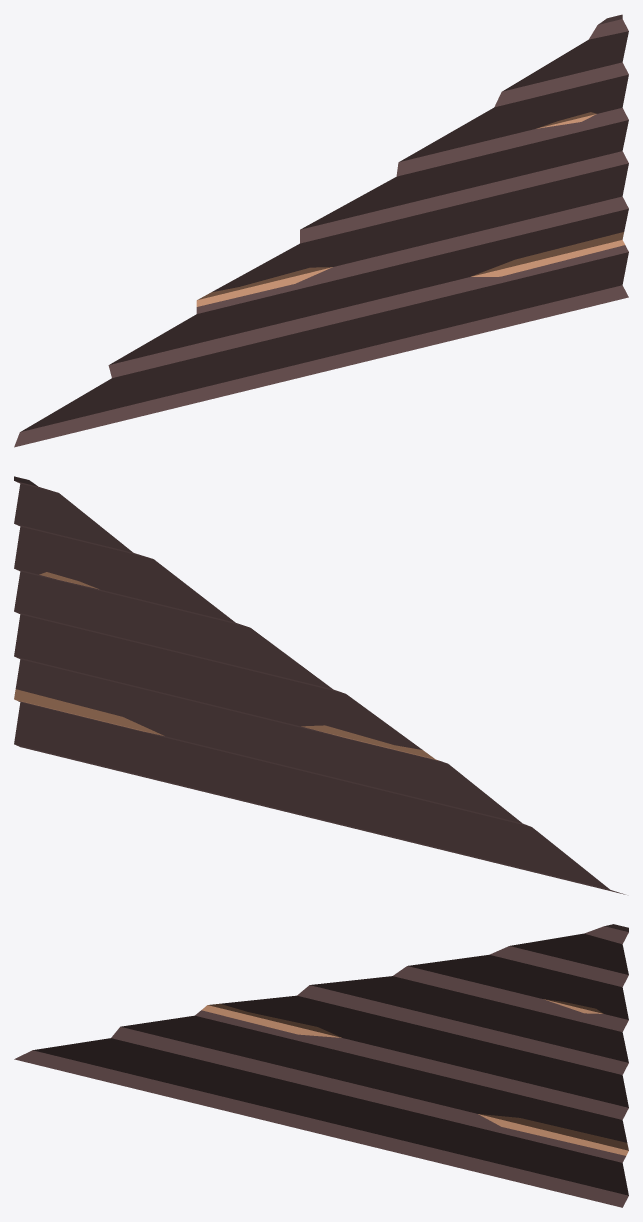
The model's file is builder_45.FBX.
3 views of the same model, one above another, from view 1: azimuth 30°, elevation 25°; view 2: azimuth 150°, elevation 25°; view 3: azimuth 330°, elevation 25° (orthographic).
Visible parts, largest first — view 1: builder_45; view 2: builder_45; view 3: builder_45.
Boxes of the visible parts, x1=… form: builder_45: x1=14, y1=14, x2=628, y2=447; builder_45: x1=14, y1=476, x2=625, y2=894; builder_45: x1=14, y1=924, x2=628, y2=1207.
Bounding box in the file's own units: 116 × 50.34 × 2.1.
